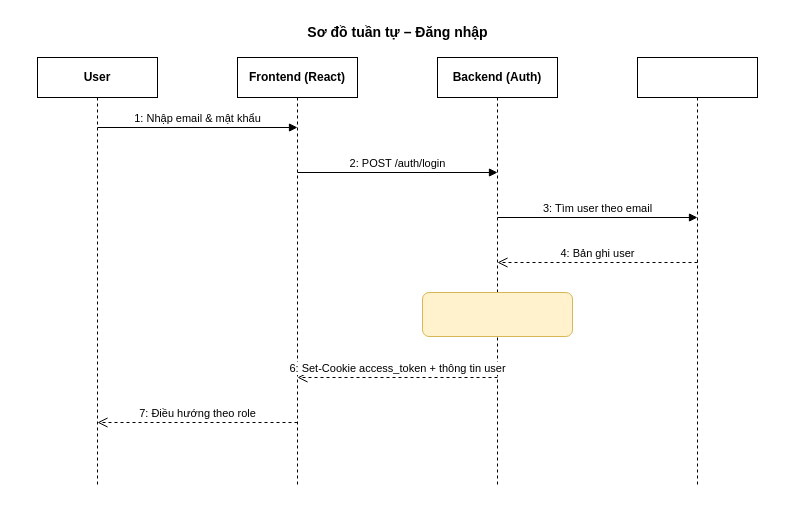
Some shapes in this 794 by 505 pixel diagram are drawn without their labels. The box of each missing label's shape, as (x1, y1, x2, y2) in pixels:
5: So khớp mật khẩu (bcrypt) & tạo JWT access token: (422, 292, 572, 336)
MySQL: (636, 56, 758, 488)
